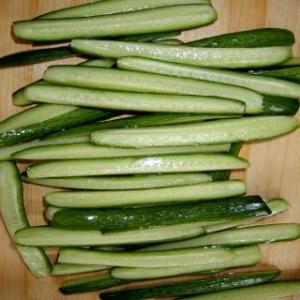cucumber: (51, 194, 271, 230)
